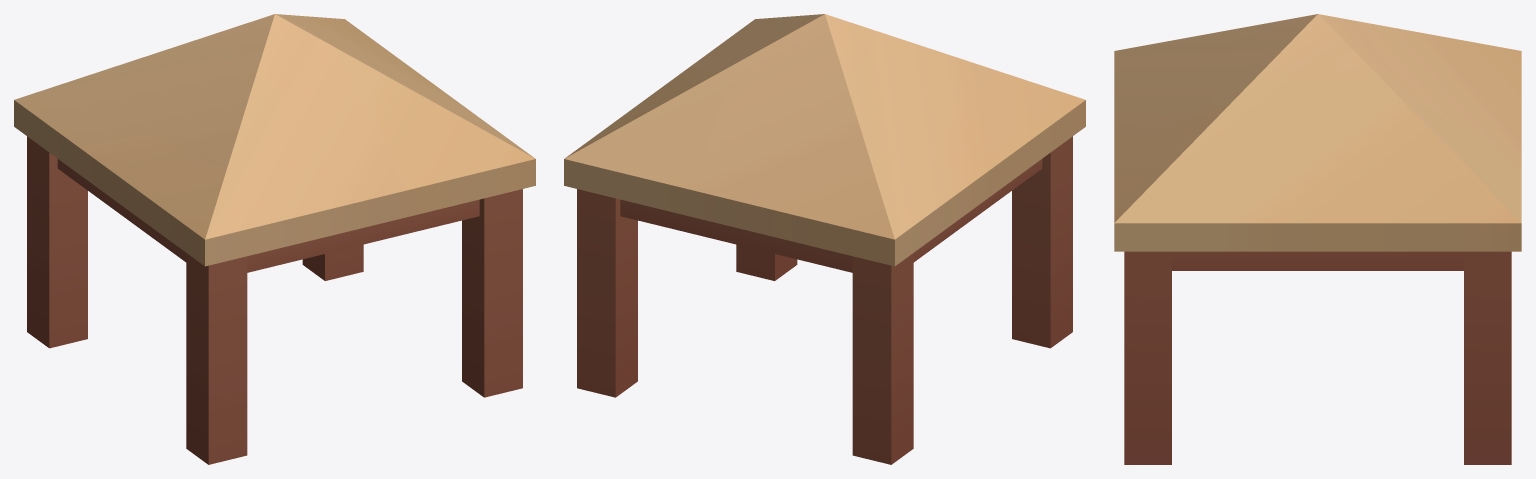
File: tent.glb
The picture shows the model from 3 angles, left to right: view 1: azimuth 30°, elevation 25°; view 2: azimuth 150°, elevation 25°; view 3: azimuth 270°, elevation 25°; orthographic projection. The views are drawn at different scales.
Parts seen in each view (by area): view 1: tent; view 2: tent; view 3: tent.
Boxes of the visible parts, <box> form: tent: <box>14,14,535,464</box>; tent: <box>564,14,1085,464</box>; tent: <box>1114,14,1521,464</box>.
Bounding box in the file's own units: 0.516 × 0.516 × 0.516.
Materials: 1 (1 with a texture image).
